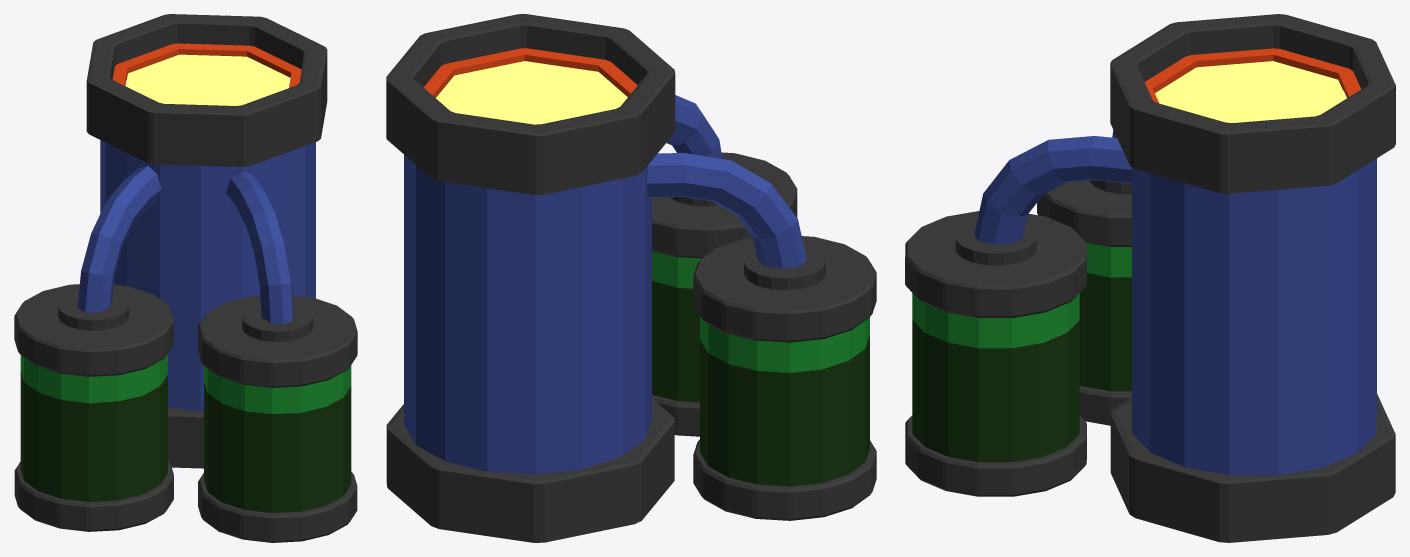
Rendered from BiomassGenerator.glb.
3 views of the same model, side by side, from view 1: azimuth 30°, elevation 25°; view 2: azimuth 150°, elevation 25°; view 3: azimuth 270°, elevation 25° (orthographic). The views are drawn at different scales.
Visible parts, largest first — view 1: Torus.001; view 2: Torus.001; view 3: Torus.001.
Boxes of the visible parts, left/top/right/bottom form: Torus.001: left=14, top=14, right=357, bottom=542; Torus.001: left=386, top=14, right=876, bottom=542; Torus.001: left=905, top=14, right=1395, bottom=542.
Bounding box in the file's own units: 1.72 × 1.7 × 1.85.
